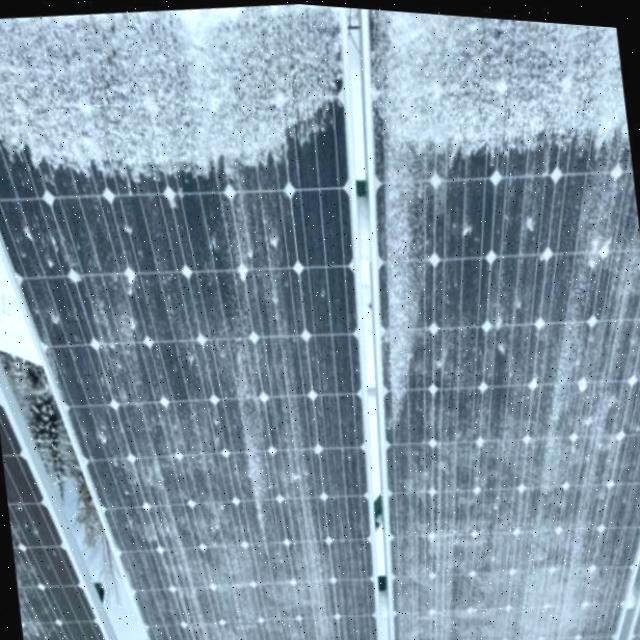Anomaly Solar Panel: (354, 2, 640, 640), (627, 593, 640, 640)
Snow: (627, 593, 640, 640)
